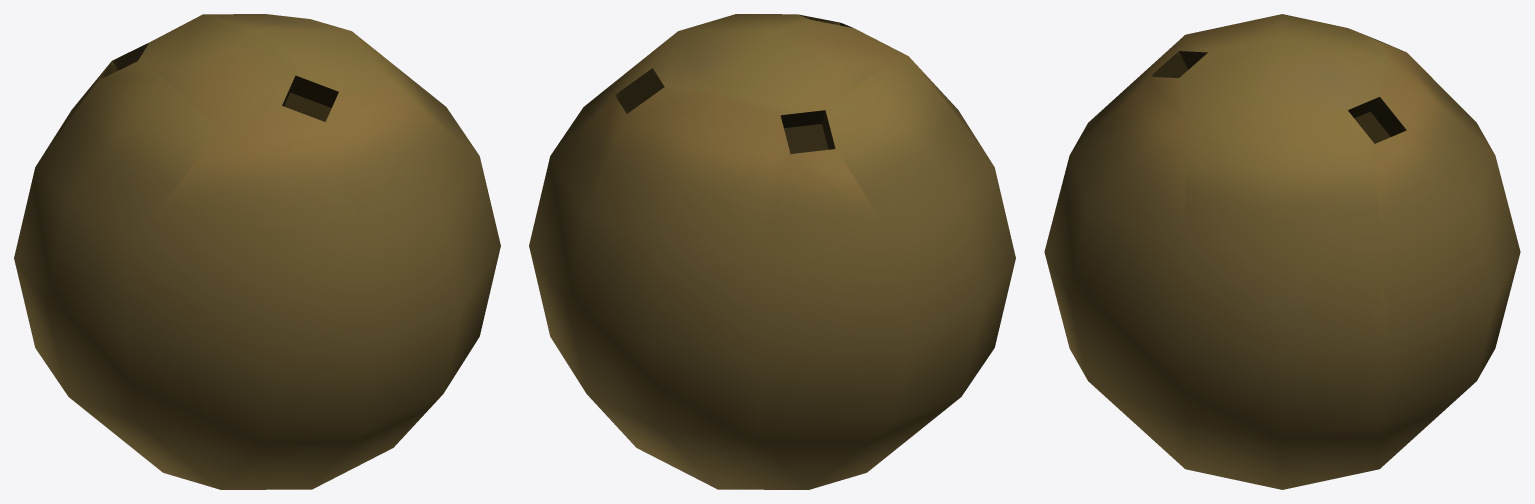
Rendered from bowlingball_coconut_01.FBX.
3 views of the same model, side by side, from view 1: azimuth 30°, elevation 25°; view 2: azimuth 150°, elevation 25°; view 3: azimuth 270°, elevation 25° (orthographic). The views are drawn at different scales.
Visible parts, largest first — view 1: Box001; view 2: Box001; view 3: Box001.
Boxes of the visible parts, box(x1,y1,x2,y2) form: Box001: box(14, 14, 500, 489); Box001: box(529, 14, 1015, 489); Box001: box(1044, 14, 1520, 489).
Size of the model in its own units: 50 by 50 by 50.
Materials: 1 (1 with a texture image).
